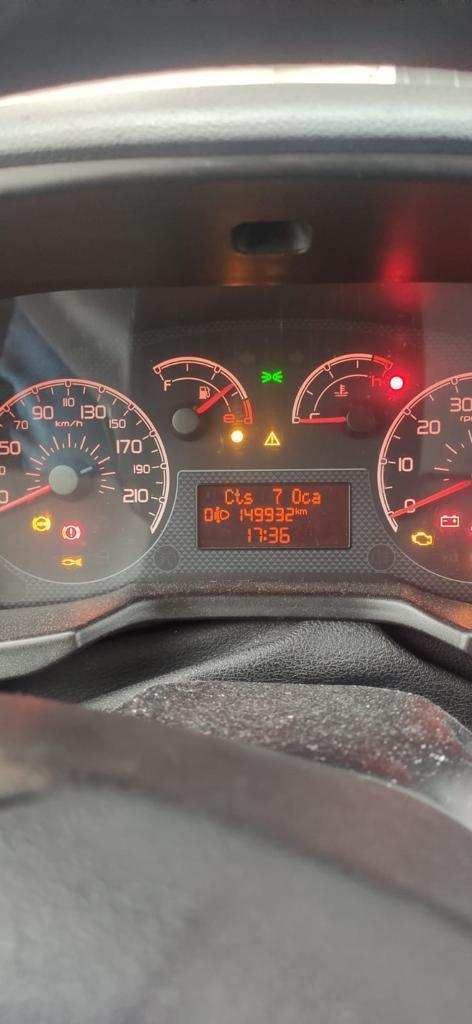0: (204, 507, 213, 522)
1: (246, 526, 251, 544), (238, 507, 243, 523)
2: (285, 506, 294, 522)
3: (268, 527, 278, 544), (274, 506, 284, 522)
4: (243, 507, 253, 522)
6: (278, 526, 290, 544)
7: (271, 486, 283, 504), (253, 526, 263, 543)
9: (264, 506, 274, 522), (253, 506, 263, 522)
X: (223, 488, 234, 505), (235, 487, 244, 505), (292, 487, 301, 504), (311, 491, 321, 504), (244, 491, 254, 504), (301, 491, 310, 504), (299, 508, 307, 515), (263, 529, 267, 541), (295, 507, 299, 514)
odometer: (195, 479, 355, 551)
